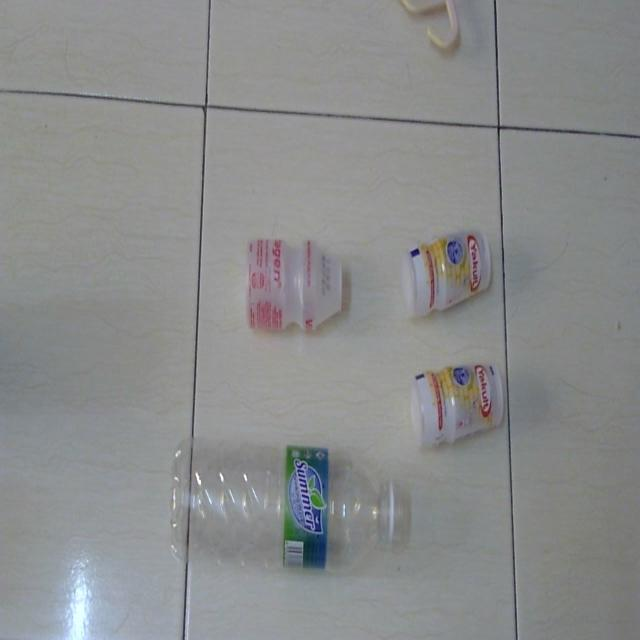plastic_laydown_0rotation: (168, 431, 408, 576), (242, 230, 344, 338), (408, 361, 504, 444), (404, 228, 493, 314)
